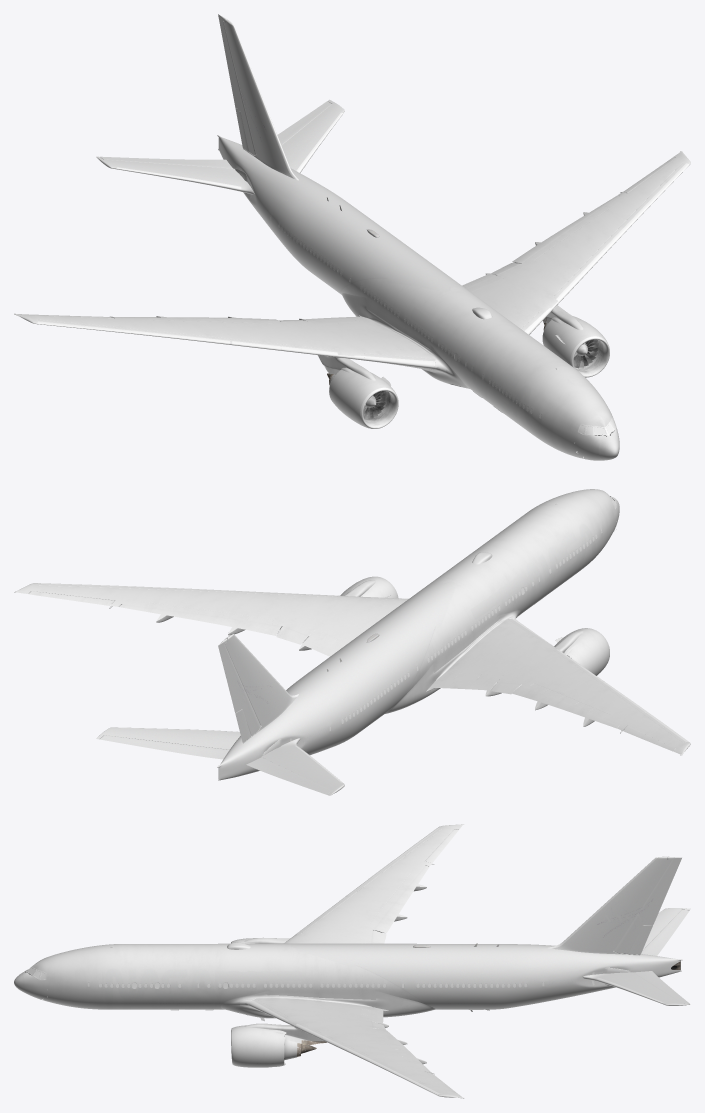
Rendered from airliner.glb.
3 renders of one model, top to bottom at view 1: azimuth 30°, elevation 25°; view 2: azimuth 150°, elevation 25°; view 3: azimuth 270°, elevation 25°, orthographic. The views are drawn at different scales.
Parts seen in each view (by area): view 1: B777_LARC_AIR_1026; view 2: B777_LARC_AIR_1026; view 3: B777_LARC_AIR_1026.
Part boxes in pixels (x1=…): B777_LARC_AIR_1026: x1=14, y1=14, x2=690, y2=460; B777_LARC_AIR_1026: x1=14, y1=489, x2=690, y2=795; B777_LARC_AIR_1026: x1=14, y1=824, x2=690, y2=1098.
Size of the model in its own units: 60.98 by 17.18 by 63.72.
7 materials, 7 textured.
